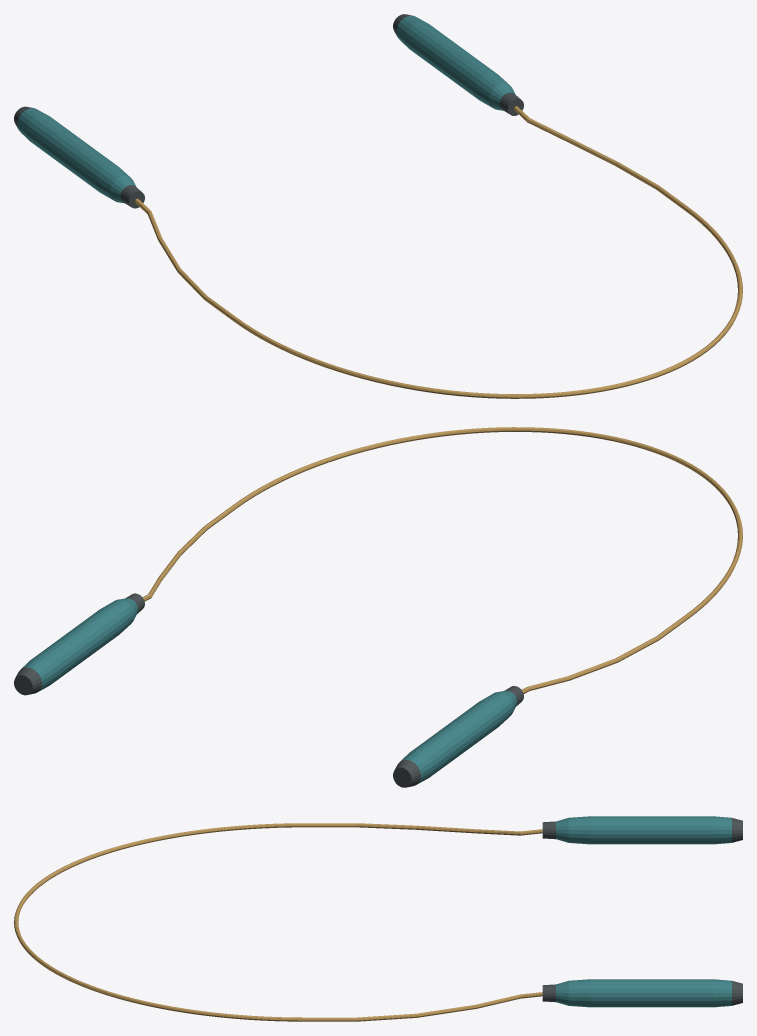
The picture shows the model from 3 angles, top to bottom: view 1: azimuth 30°, elevation 25°; view 2: azimuth 150°, elevation 25°; view 3: azimuth 270°, elevation 25°; orthographic projection. The views are drawn at different scales.
Visible parts, largest first — view 1: WholeContinuousBroadUCord, WholeLeftLongWaistedHandle, WholeRightLongWaistedHandle; view 2: WholeContinuousBroadUCord, WholeRightLongWaistedHandle, WholeLeftLongWaistedHandle; view 3: WholeContinuousBroadUCord, WholeRightLongWaistedHandle, WholeLeftLongWaistedHandle.
Boxes of the visible parts, x1=… form: WholeContinuousBroadUCord: x1=135, y1=106, x2=742, y2=398; WholeLeftLongWaistedHandle: x1=14, y1=106, x2=144, y2=208; WholeRightLongWaistedHandle: x1=393, y1=14, x2=523, y2=115; WholeContinuousBroadUCord: x1=142, y1=427, x2=742, y2=693; WholeRightLongWaistedHandle: x1=14, y1=593, x2=144, y2=695; WholeLeftLongWaistedHandle: x1=393, y1=686, x2=523, y2=787; WholeContinuousBroadUCord: x1=14, y1=823, x2=542, y2=1021; WholeRightLongWaistedHandle: x1=542, y1=979, x2=742, y2=1007; WholeLeftLongWaistedHandle: x1=542, y1=816, x2=742, y2=844.
Bounding box in the file's own units: 0.626 × 0.0375 × 0.983.
